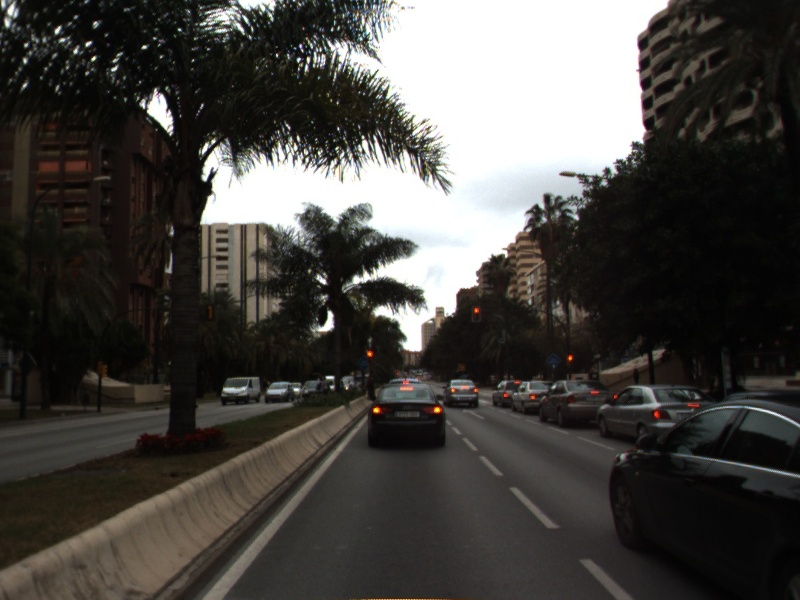STRAIGHT: (460, 406, 487, 421)
